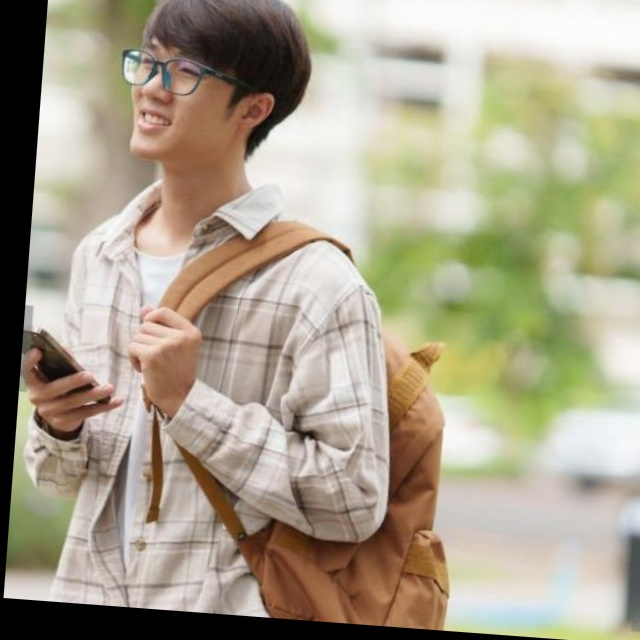Sin_Casco_Mascarrilla: (121, 0, 316, 171)
Sin_Chaleco: (47, 191, 370, 623)
